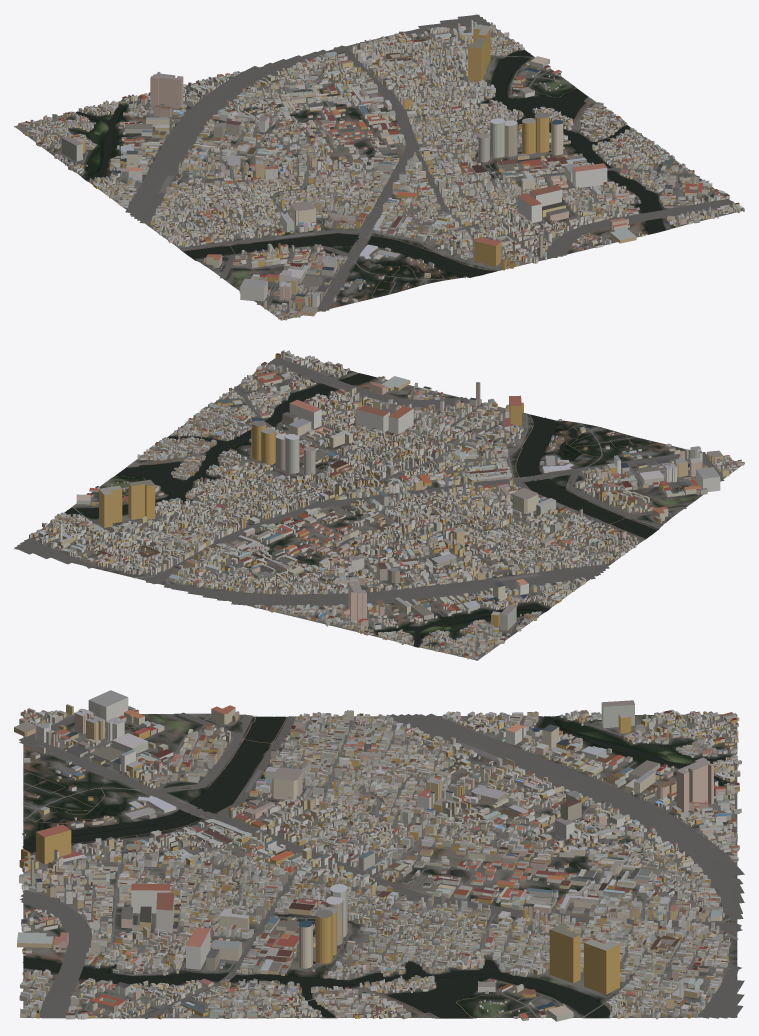
3 renders of one model, top to bottom at view 1: azimuth 30°, elevation 25°; view 2: azimuth 150°, elevation 25°; view 3: azimuth 270°, elevation 25°, orthographic. The views are drawn at different scales.
Visible parts, largest first — view 1: buildings, ground, roads, water; view 2: buildings, ground, roads, water; view 3: buildings, ground, roads, water.
Part boxes in pixels (x1=…): buildings: x1=17, y1=19, x2=744, y2=320; ground: x1=14, y1=14, x2=742, y2=320; roads: x1=22, y1=14, x2=741, y2=318; water: x1=75, y1=50, x2=665, y2=278; buildings: x1=29, y1=350, x2=744, y2=659; ground: x1=14, y1=356, x2=744, y2=660; roads: x1=14, y1=357, x2=737, y2=654; water: x1=64, y1=373, x2=681, y2=647; buildings: x1=14, y1=690, x2=741, y2=1021; ground: x1=23, y1=712, x2=737, y2=1018; roads: x1=19, y1=712, x2=744, y2=1018; water: x1=22, y1=716, x2=737, y2=1017.
Size of the model in its own units: 1441 by 105 by 1433.
